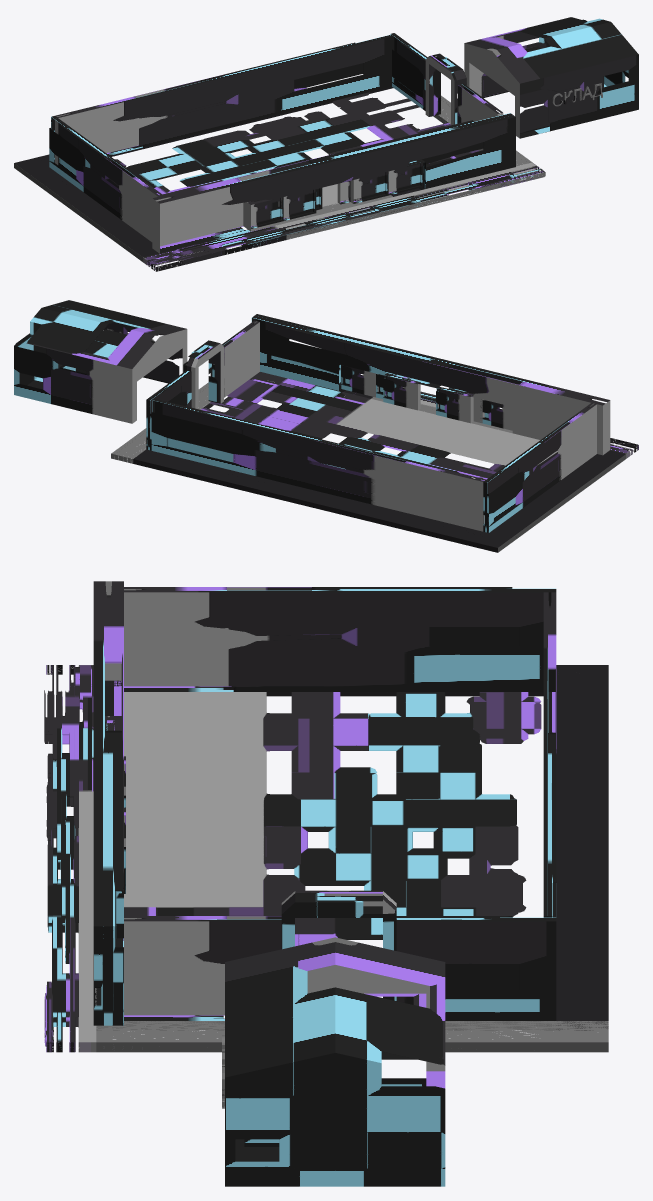
File: building_texture.fbx
3 renders of one model, top to bottom at view 1: azimuth 30°, elevation 25°; view 2: azimuth 150°, elevation 25°; view 3: azimuth 270°, elevation 25°, orthographic. The views are drawn at different scales.
Visible parts, largest first — view 1: BUILDING; view 2: BUILDING; view 3: BUILDING.
Part boxes in pixels (box(x1,y1,x2,y2)): BUILDING: box(14, 17, 638, 271); BUILDING: box(14, 300, 638, 552); BUILDING: box(44, 581, 608, 1186).
Bounding box in the file's own units: 633 × 77.23 × 295.
Materials: 1 (1 with a texture image).
